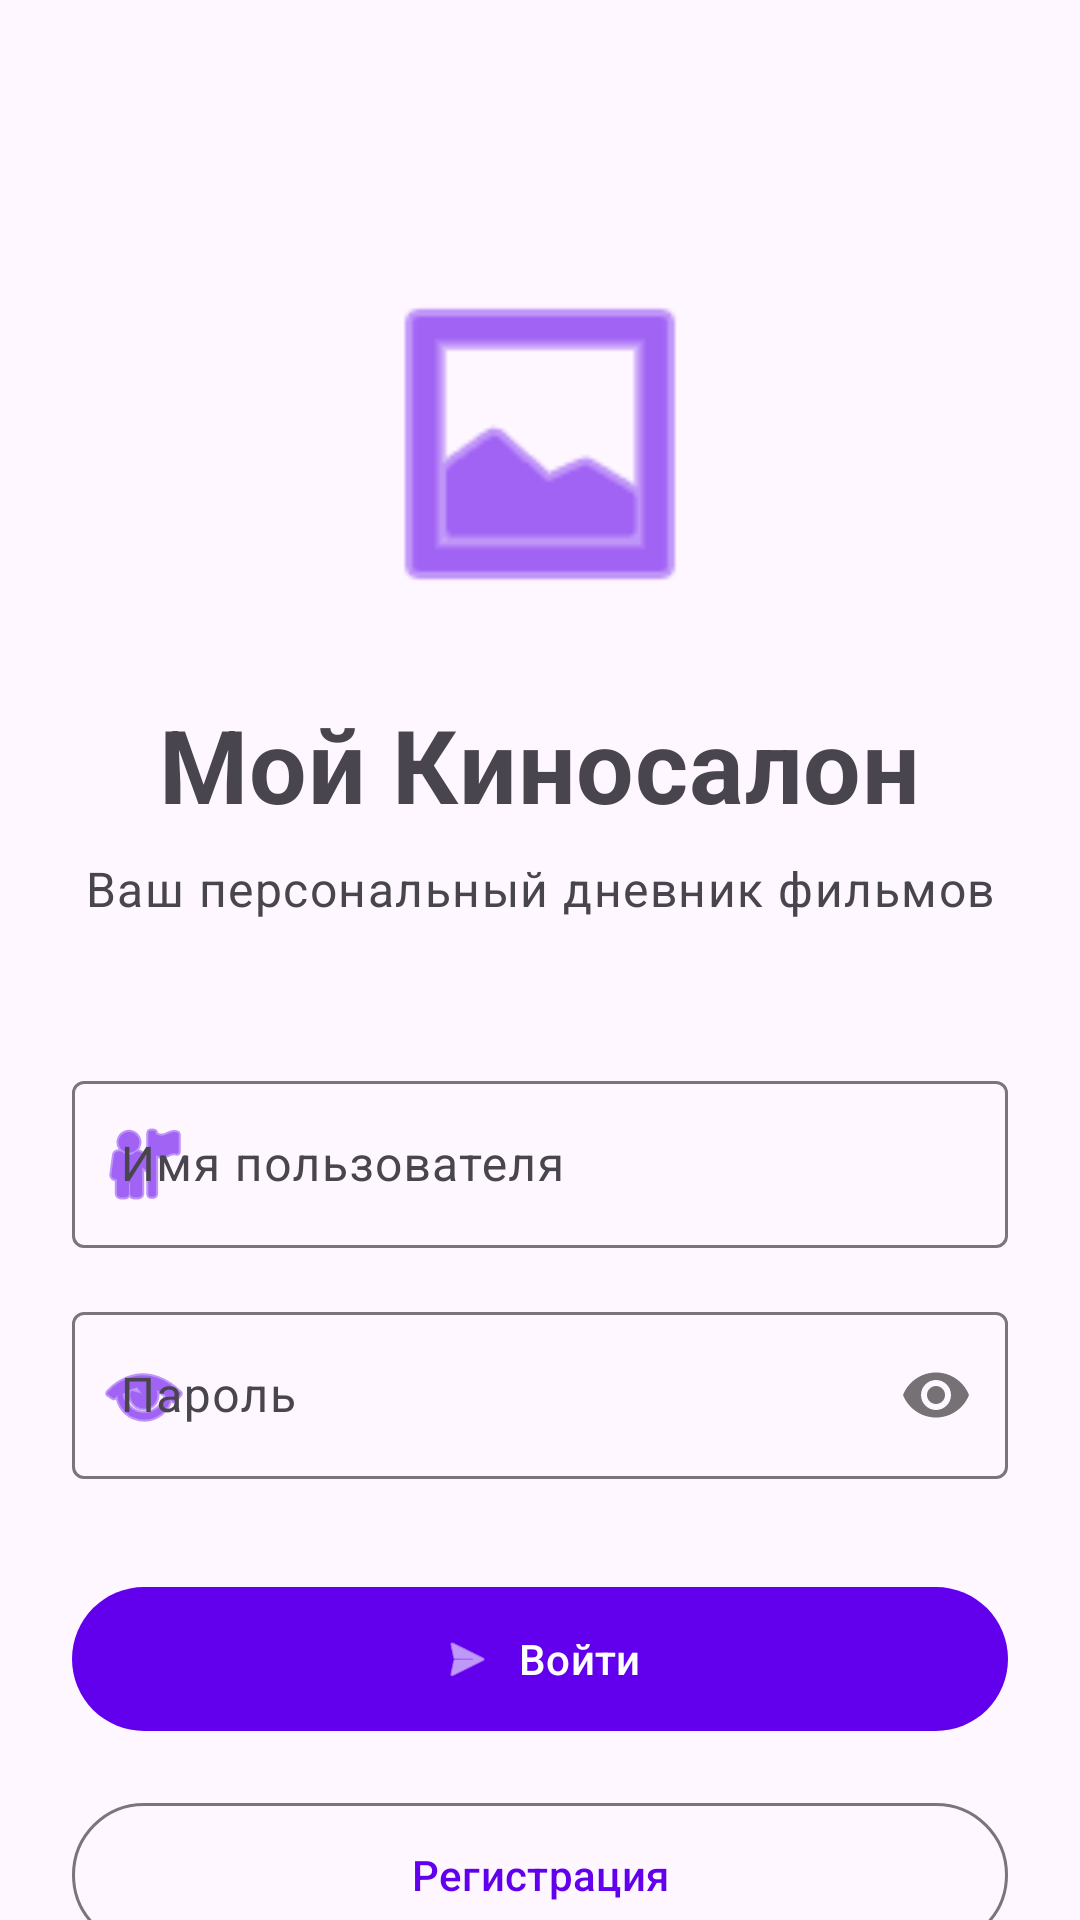

Icon bounding boxes for this 1080*1920 phone screenshot, format (x1, y1, x2, y2):
gallery: (404, 308, 676, 580)
